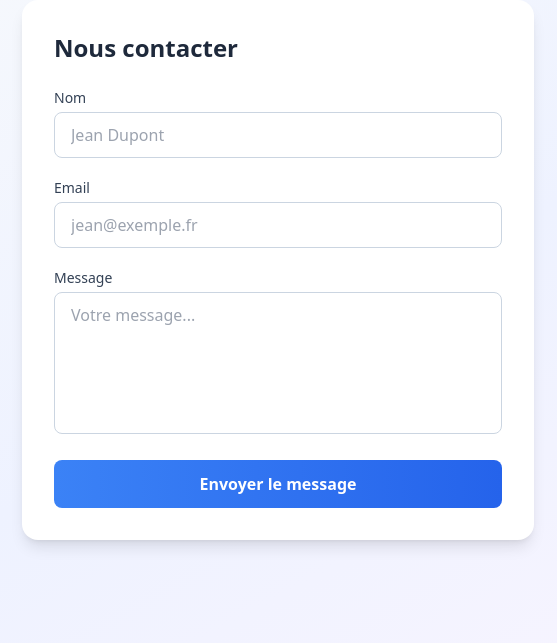
Test: ContactForm › affiche une erreur si l'email est invalide
Type "pas-un-email" into the field labelled "Email" at (278, 225), box [54,202,502,248]
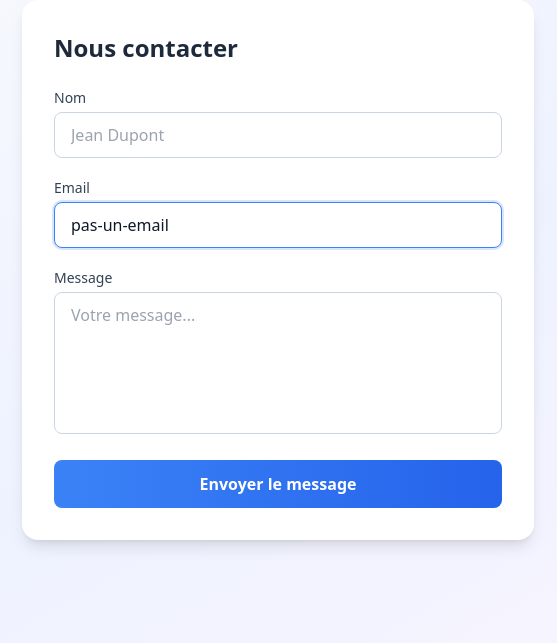
Click the button "Envoyer le message" at (278, 484), box [54,460,502,508]
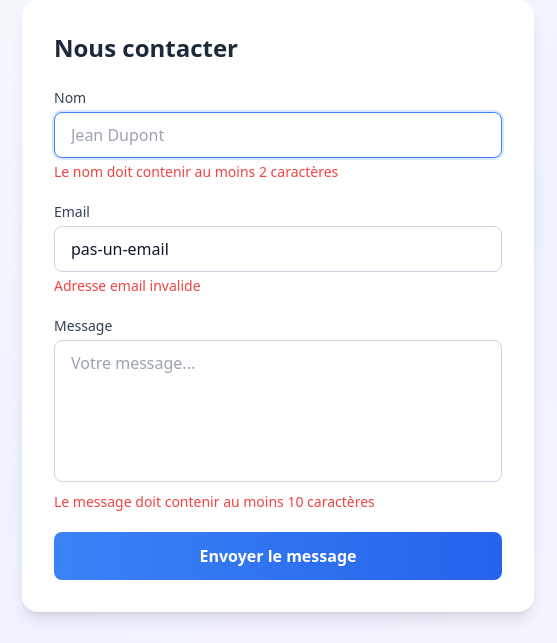
Check: the text "Adresse email invalide" is shown, box [54,276,201,295]
